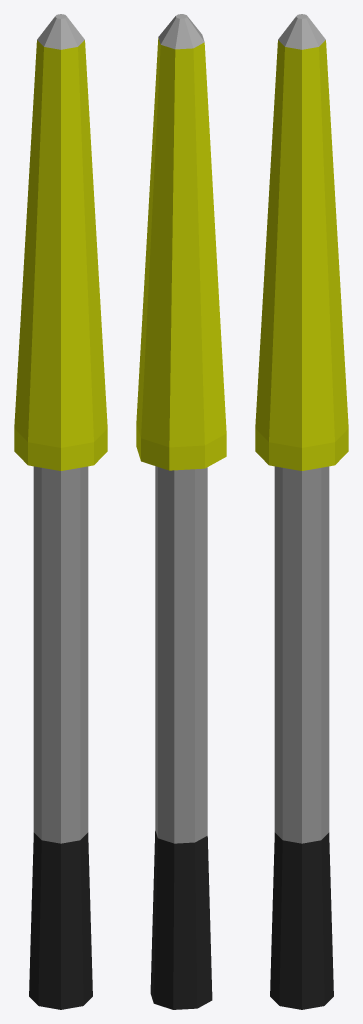
Rendered from umbrella_close.fbx.
3 views of the same model, side by side, from view 1: azimuth 90°, elevation 25°; view 2: azimuth 210°, elevation 25°; view 3: azimuth 270°, elevation 25° (orthographic).
Visible parts, largest first — view 1: Cylinder; view 2: Cylinder; view 3: Cylinder.
Boxes of the visible parts, bbox=[...] form: Cylinder: bbox=[14, 14, 107, 1009]; Cylinder: bbox=[136, 14, 226, 1009]; Cylinder: bbox=[255, 14, 348, 1009].
Size of the model in its own units: 73.03 by 845 by 73.03.
